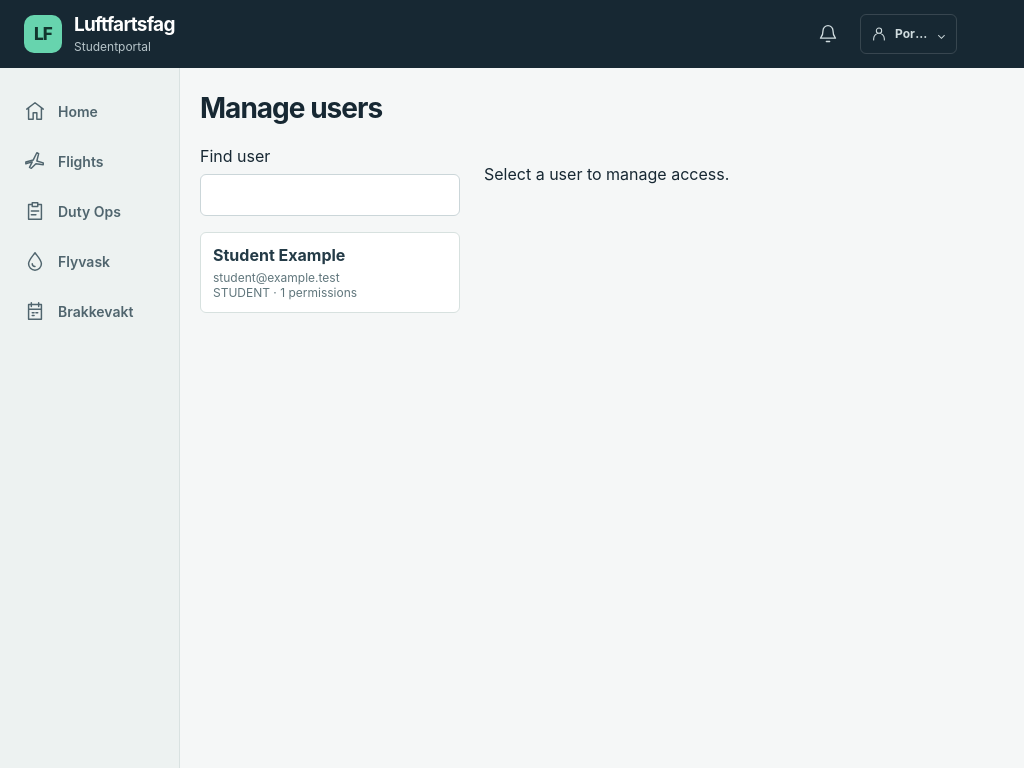
Test case: admin access editor › places webmaster message management in a visible permission group
Click the button that starts with "Student Example". click: (330, 272)
box: left=200, top=232, right=460, bottom=313
(page scrolled)
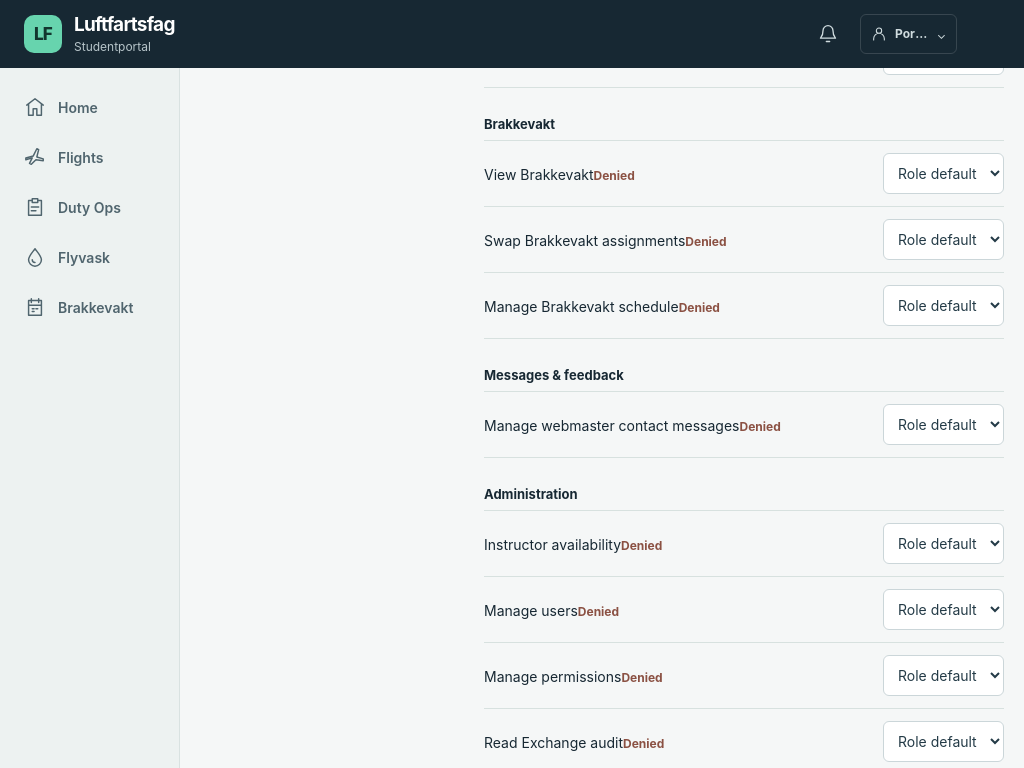
Expected: the element with class "admin-permission-group" that starts with "Messages & feedback" is shown, left=484, top=359, right=1004, bottom=458
Expected: the dropdown labelled "Manage webmaster contact messages" is shown, left=883, top=404, right=1004, bottom=445
